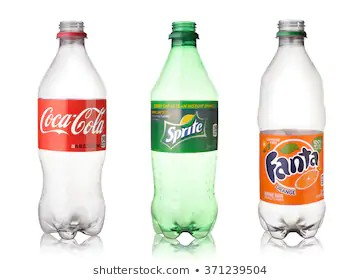coke-bottle-700ml: (34, 18, 109, 243)
